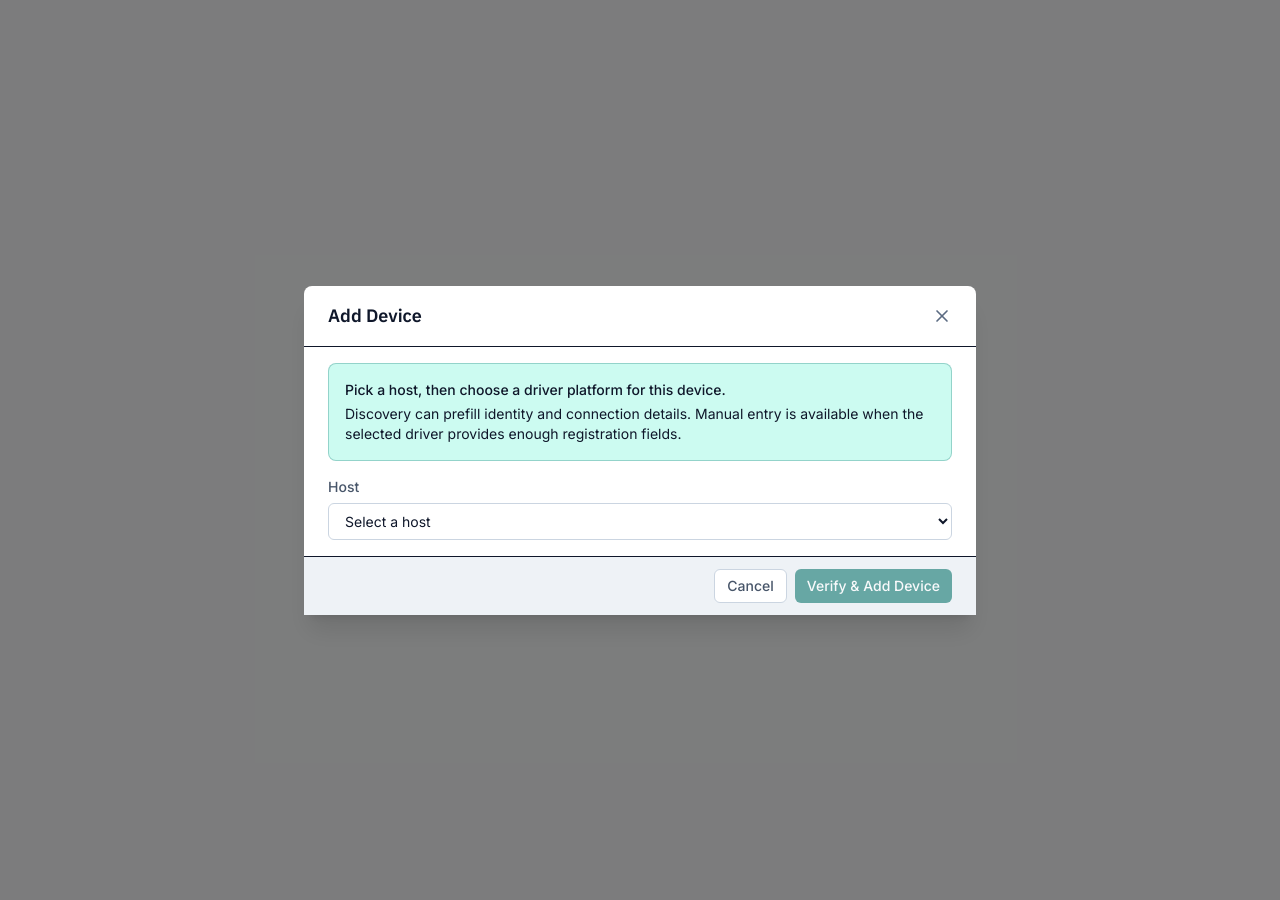
Scenario: AddDeviceModal manual driver registration › requires an observed emulator and hides manual connection target
Select "Host 1" in the dropdown labelled "Host": (640,521) x1=328 y1=502 x2=952 y2=540
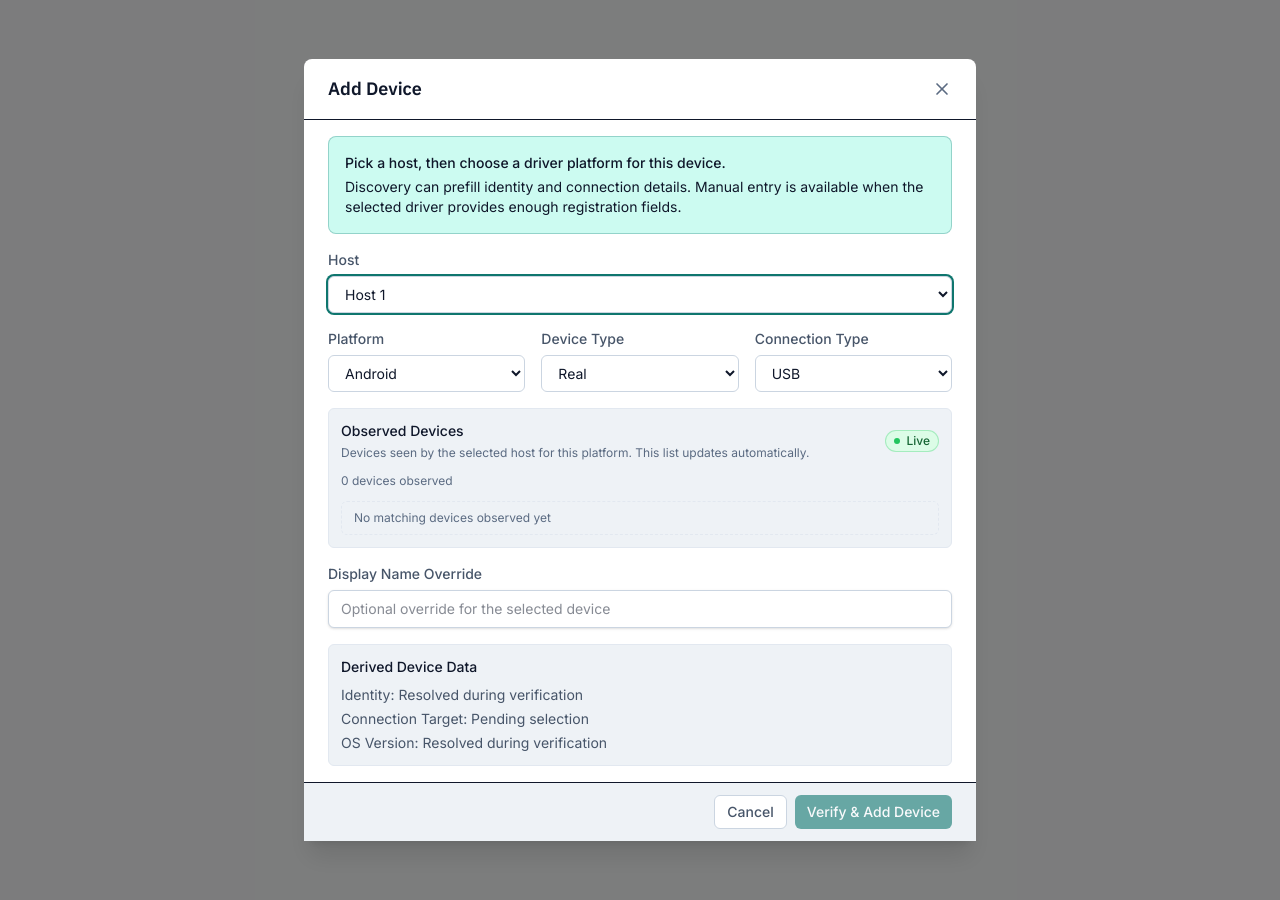
Select "Emulator" in the dropdown labelled "Device Type": (640,374) x1=541 y1=355 x2=739 y2=392
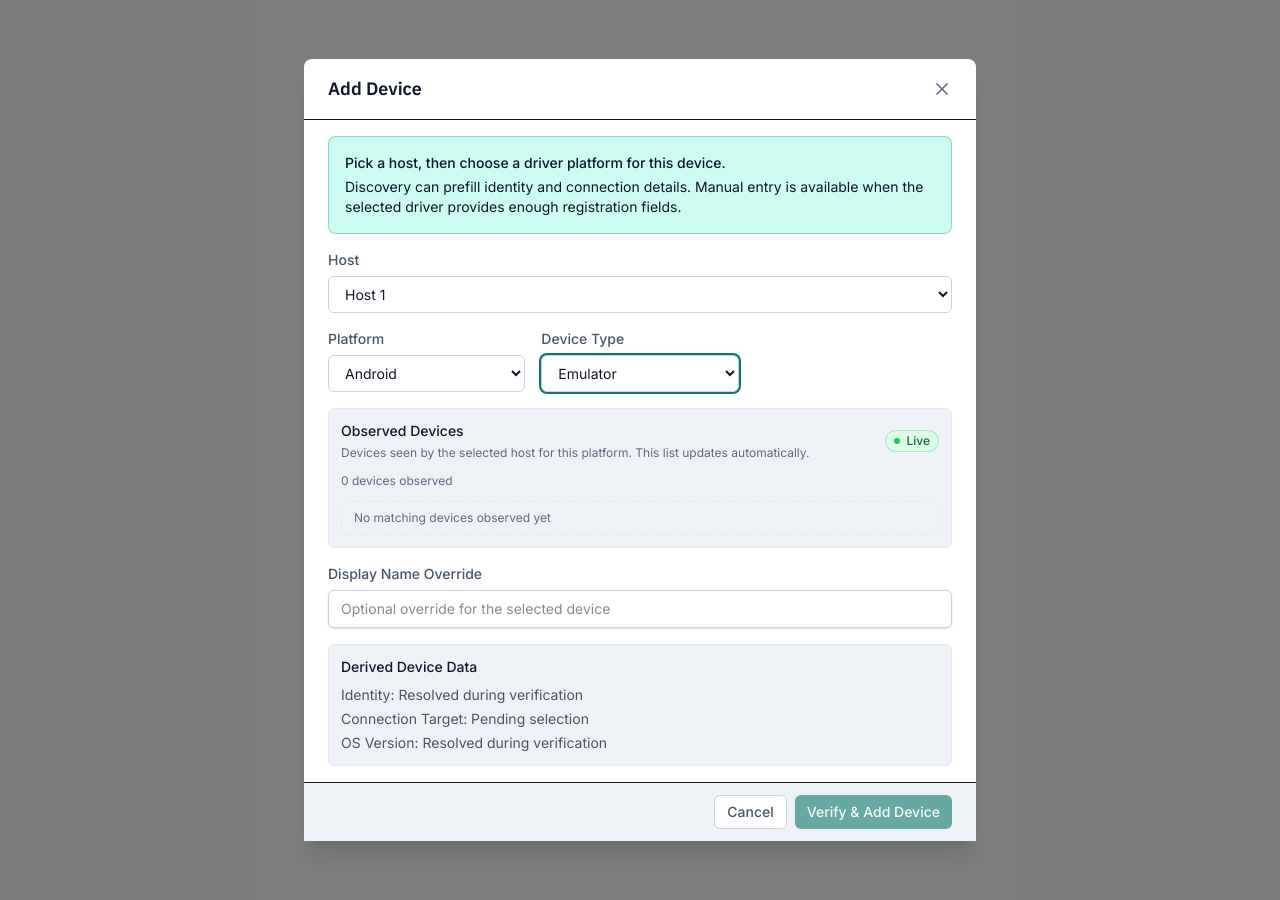
Check: the button "Verify & Add Device" is disabled, box x1=795 y1=795 x2=952 y2=829
Check: the text "No matching devices observed yet" is shown, box x1=341 y1=501 x2=939 y2=535
Check: the label labelled "Connection Type" is gone
